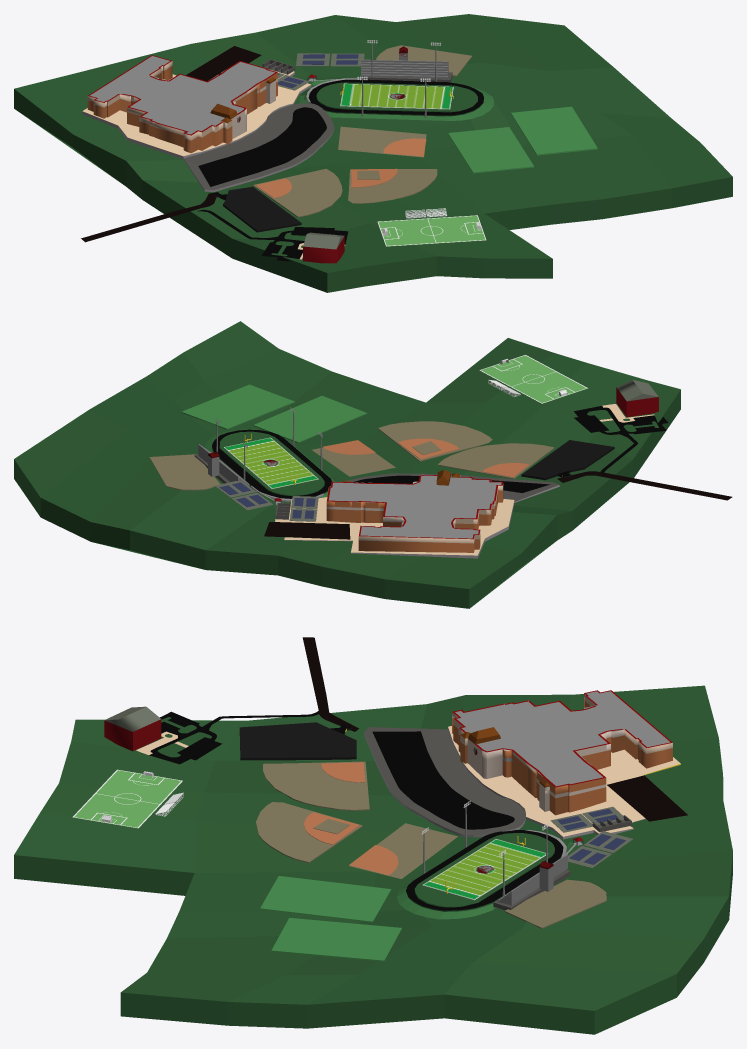
The model's file is intbroadneck.glb.
The picture shows the model from 3 angles, top to bottom: view 1: azimuth 30°, elevation 25°; view 2: azimuth 150°, elevation 25°; view 3: azimuth 270°, elevation 25°; orthographic projection. The views are drawn at different scales.
Visible parts, largest first — view 1: bhs_grass, bhs_bases_fields, Plane, bhs_turf, bhs_extrafield, bhs_practice_field, Bleachers.006, bhs_library; view 2: bhs_grass, bhs_bases_fields, Plane, bhs_extrafield, bhs_turf, bhs_practice_field, bhs_library, Bleachers.006; view 3: bhs_grass, bhs_bases_fields, Plane, bhs_extrafield, bhs_turf, bhs_practice_field, bhs_library, Bleachers.006.
Boxes of the visible parts, box(x1,y1,x2,y2) form: bhs_grass: box(14, 14, 732, 292); bhs_bases_fields: box(81, 45, 472, 242); Plane: box(87, 55, 277, 153); bhs_turf: box(299, 40, 493, 120); bhs_extrafield: box(252, 126, 437, 217); bhs_practice_field: box(448, 106, 597, 173); Bleachers.006: box(377, 208, 486, 246); bhs_library: box(197, 209, 348, 263); bhs_grass: box(14, 321, 680, 608); bhs_bases_fields: box(149, 440, 732, 558); Plane: box(326, 470, 503, 552); bhs_extrafield: box(312, 421, 554, 478); bhs_turf: box(194, 407, 334, 508); bhs_practice_field: box(181, 384, 367, 442); bhs_library: box(574, 380, 667, 472); Bleachers.006: box(479, 355, 588, 403); bhs_grass: box(14, 685, 732, 1034); bhs_bases_fields: box(239, 637, 687, 928); Plane: box(452, 690, 672, 815); bhs_extrafield: box(256, 761, 457, 878); bhs_turf: box(396, 800, 587, 919); bhs_practice_field: box(260, 876, 402, 961); bhs_library: box(104, 706, 318, 764); Bleachers.006: box(72, 769, 183, 828).
Bounding box in the file's own units: 1.05 × 0.1352 × 0.9129.
35 materials, 3 textured.
